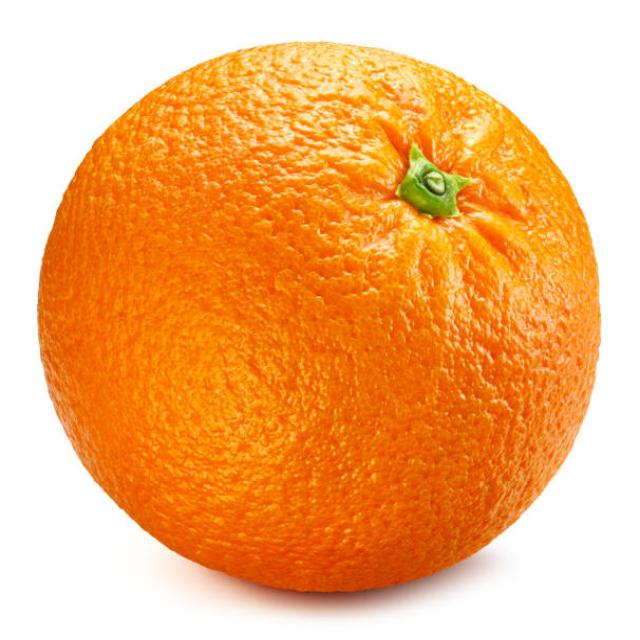Ripe: (27, 29, 606, 600)
